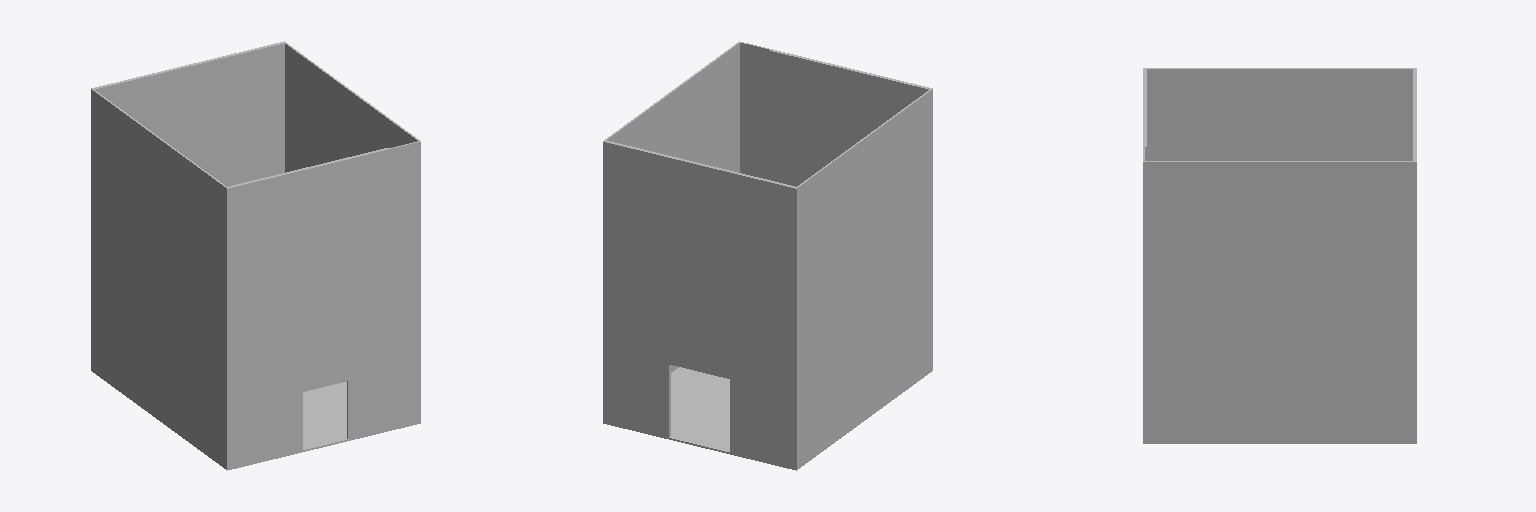
File: Tutorial Map V1.0-6.obj
3 views of the same model, side by side, from view 1: azimuth 30°, elevation 25°; view 2: azimuth 150°, elevation 25°; view 3: azimuth 270°, elevation 25° (orthographic).
Visible parts, largest first — view 1: object 1; view 2: object 1; view 3: object 1.
Part boxes in pixels (bbox=[...]): object 1: bbox=[91, 41, 420, 470]; object 1: bbox=[603, 41, 932, 470]; object 1: bbox=[1143, 68, 1416, 443].
Bounding box in the file's own units: 10.8 × 15 × 13.2.